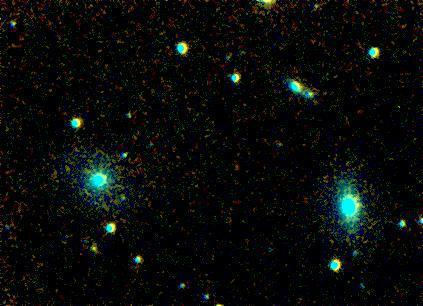star: (79, 233, 109, 263)
